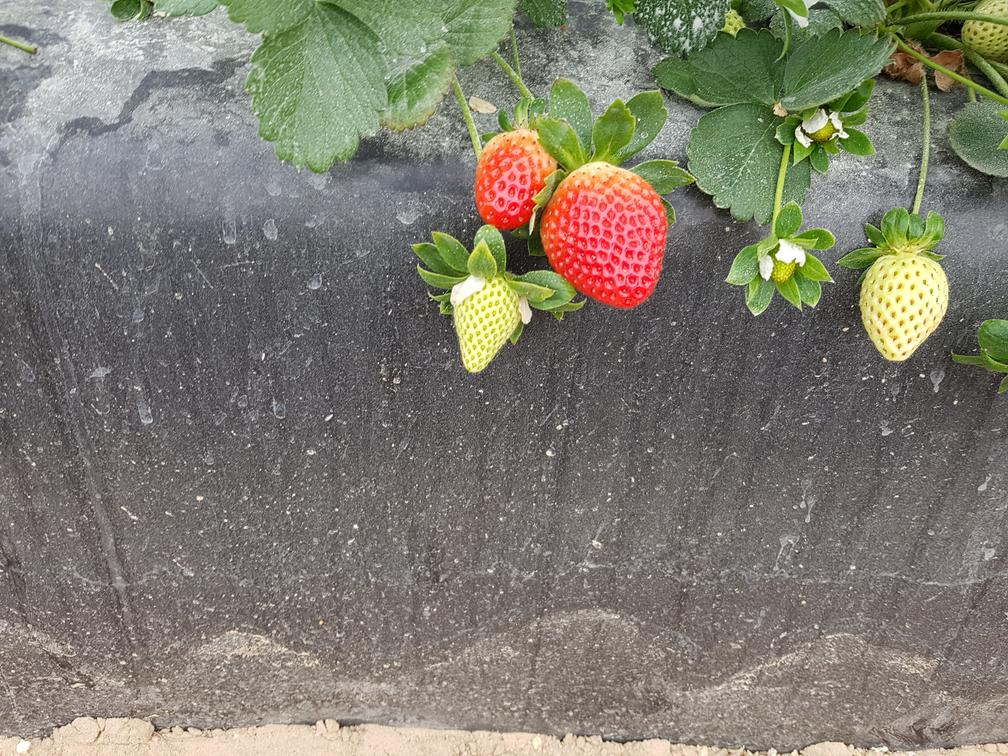Ripe: (558, 164, 674, 312), (474, 132, 560, 234)
Unripe: (855, 250, 951, 366), (454, 275, 525, 378)
